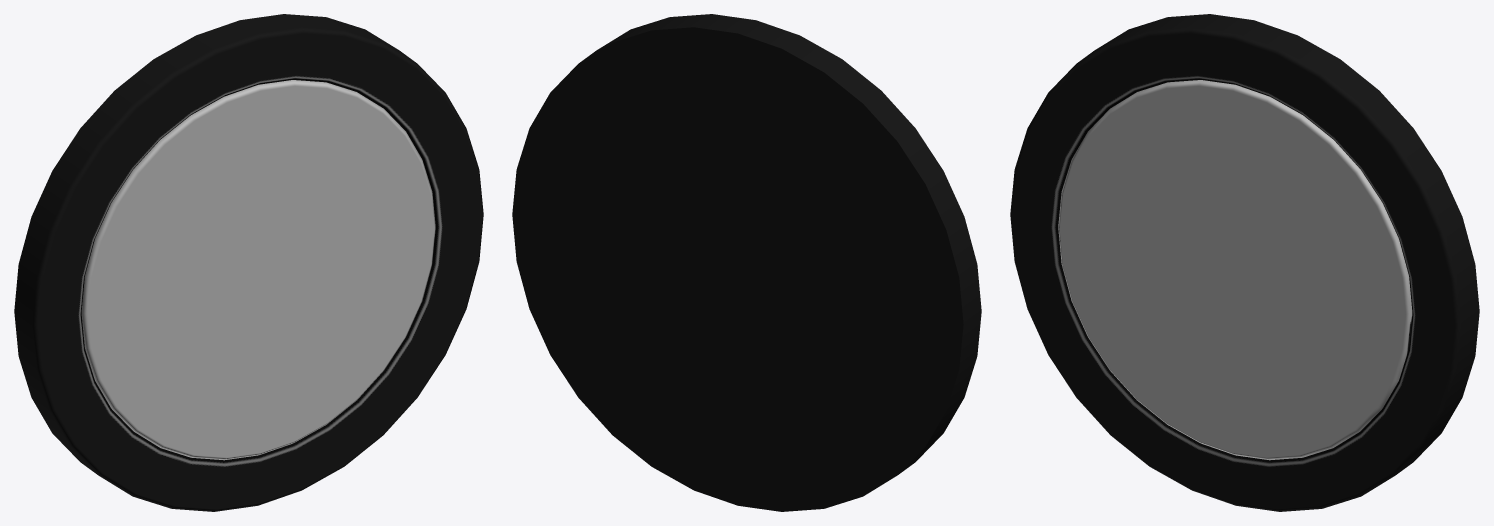
Rendered from Clock.fbx.
The picture shows the model from 3 angles, left to right: view 1: azimuth 30°, elevation 25°; view 2: azimuth 150°, elevation 25°; view 3: azimuth 330°, elevation 25°; orthographic projection.
Visible parts, largest first — view 1: Glass_LP, Clock_LP; view 2: Clock_LP; view 3: Glass_LP, Clock_LP.
Boxes of the visible parts, x1=… form: Glass_LP: x1=81, y1=80, x2=435, y2=460; Clock_LP: x1=14, y1=14, x2=483, y2=511; Clock_LP: x1=512, y1=14, x2=981, y2=511; Glass_LP: x1=1058, y1=80, x2=1412, y2=460; Clock_LP: x1=1010, y1=14, x2=1479, y2=511.
Size of the model in its own units: 316 by 316 by 25.8.
4 materials, 2 textured.
